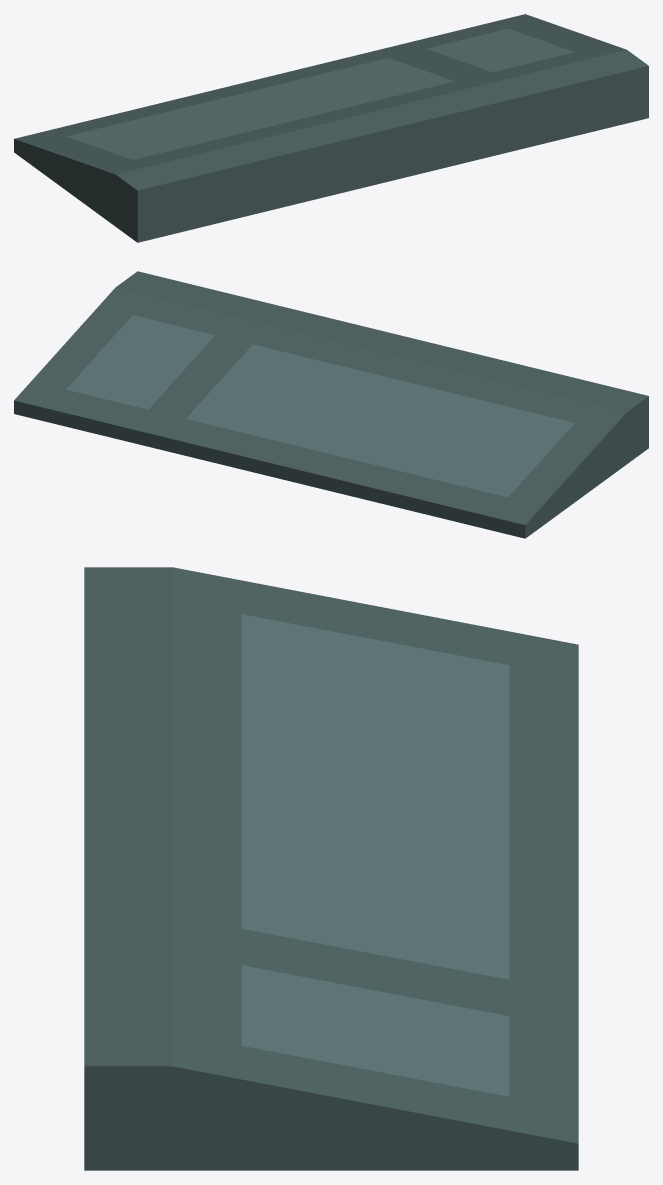
File: computerKeyboard.dae
The picture shows the model from 3 angles, top to bottom: view 1: azimuth 30°, elevation 25°; view 2: azimuth 150°, elevation 25°; view 3: azimuth 270°, elevation 25°; orthographic projection. The views are drawn at different scales.
Parts seen in each view (by area): view 1: computerKeyboard; view 2: computerKeyboard; view 3: computerKeyboard.
Boxes of the visible parts, left/top/right/bottom form: computerKeyboard: left=14, top=14, right=648, bottom=242; computerKeyboard: left=14, top=271, right=648, bottom=538; computerKeyboard: left=84, top=567, right=578, bottom=1170.
Bounding box in the file's own units: 0.2822 × 0.0276 × 0.1182.
